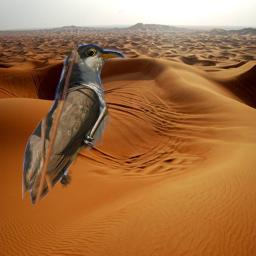Cuckoo: (22, 44, 150, 205)
